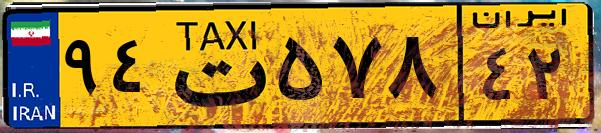2: (525, 38, 570, 115)
4: (475, 38, 525, 113), (110, 28, 158, 98)
5: (270, 28, 330, 110)
7: (330, 28, 385, 110)
8: (385, 28, 445, 110)
9: (57, 26, 110, 100)
ت: (158, 12, 270, 120)
